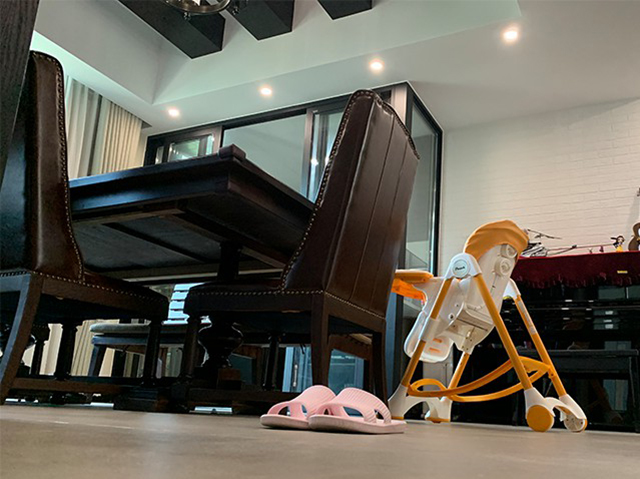slippers: (259, 383, 407, 435)
stool: (170, 88, 421, 420), (1, 49, 169, 405), (512, 348, 640, 433)
